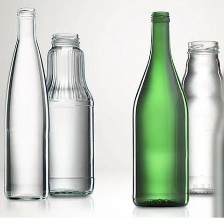bottle: (132, 9, 190, 214), (38, 29, 97, 201), (1, 5, 50, 202), (176, 29, 224, 199)
